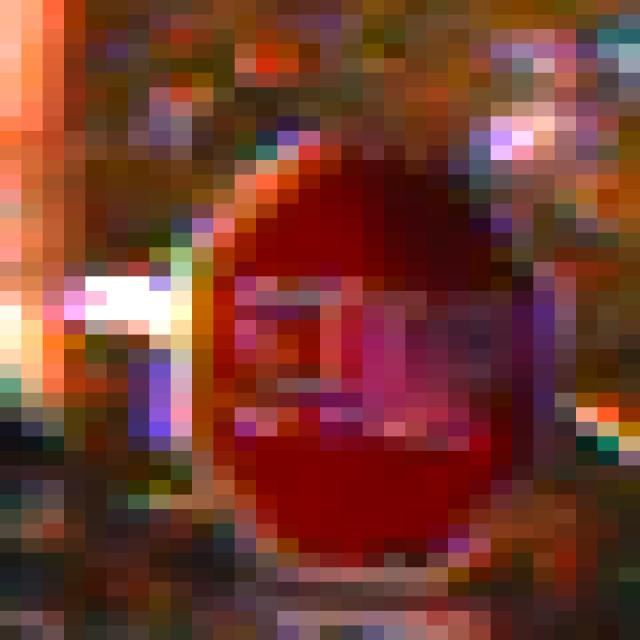STOP: (129, 89, 513, 569)
